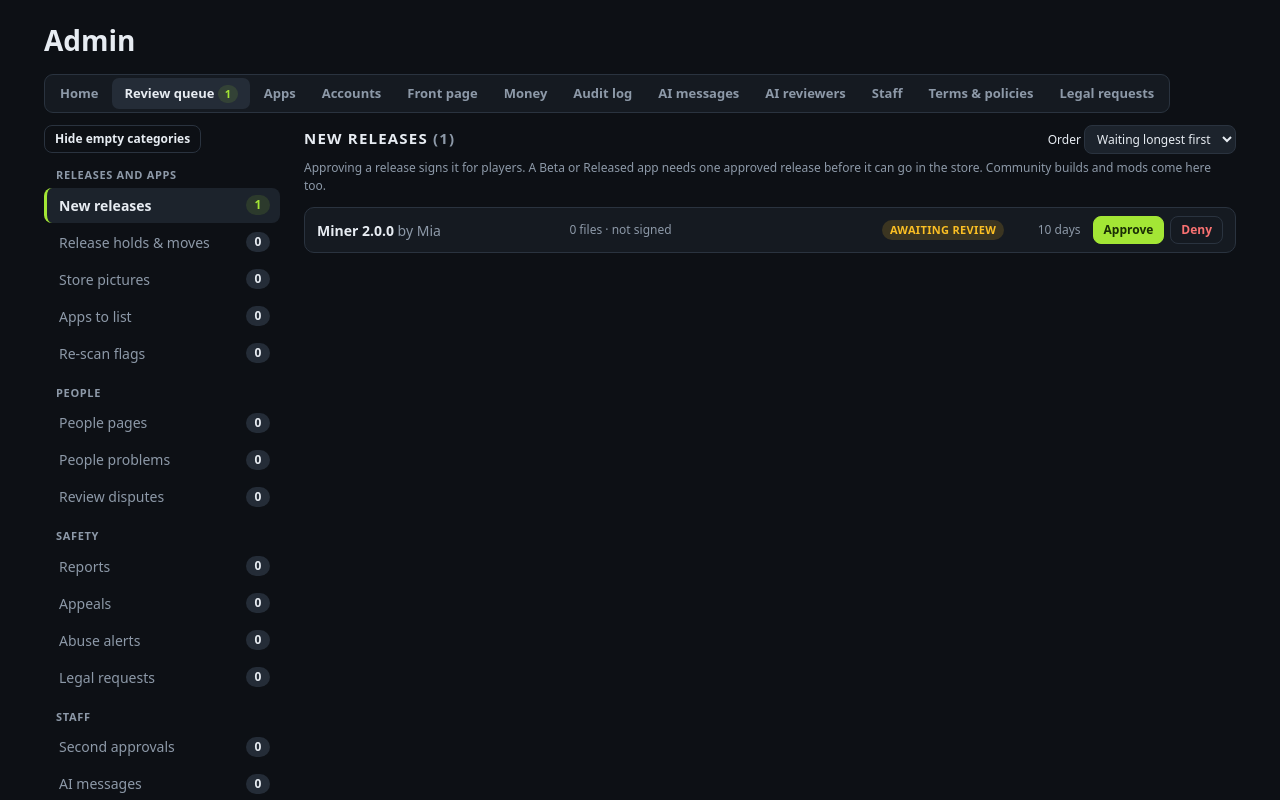
it: the admin panel › denies only after Are you sure?, with the reason the maker reads; cancelling keeps it
Click the button with aria-label "Deny Miner 2.0.0" at point(1197, 230), box [1170, 216, 1223, 244]
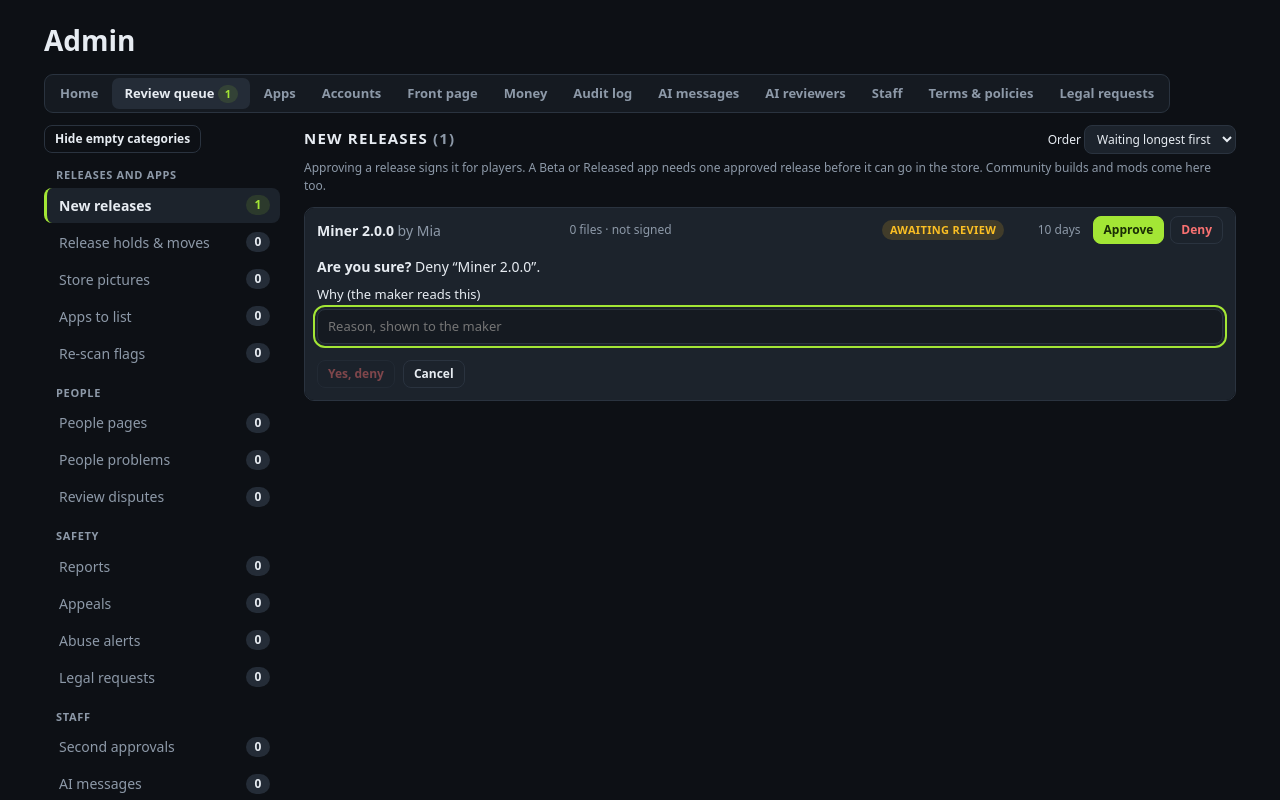
Check: the text "Are you sure?" is shown, box [317, 257, 411, 276]
Check: the button "Yes, deny" is disabled, box [317, 360, 395, 388]
Click the button "Cancel" at point(434, 374), box [403, 360, 465, 388]
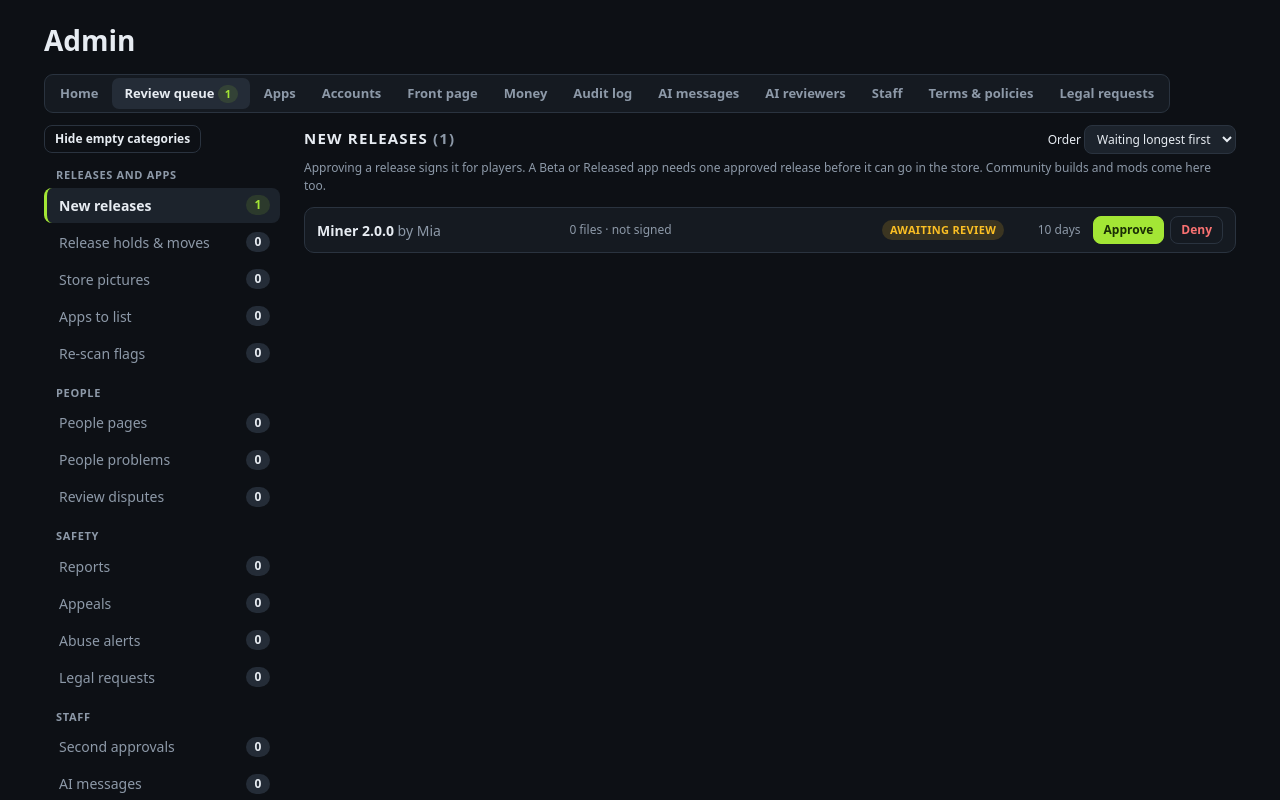
Check: the text "Are you sure?" is gone
Click the button with aria-label "Deny Miner 2.0.0" at point(1197, 230), box [1170, 216, 1223, 244]
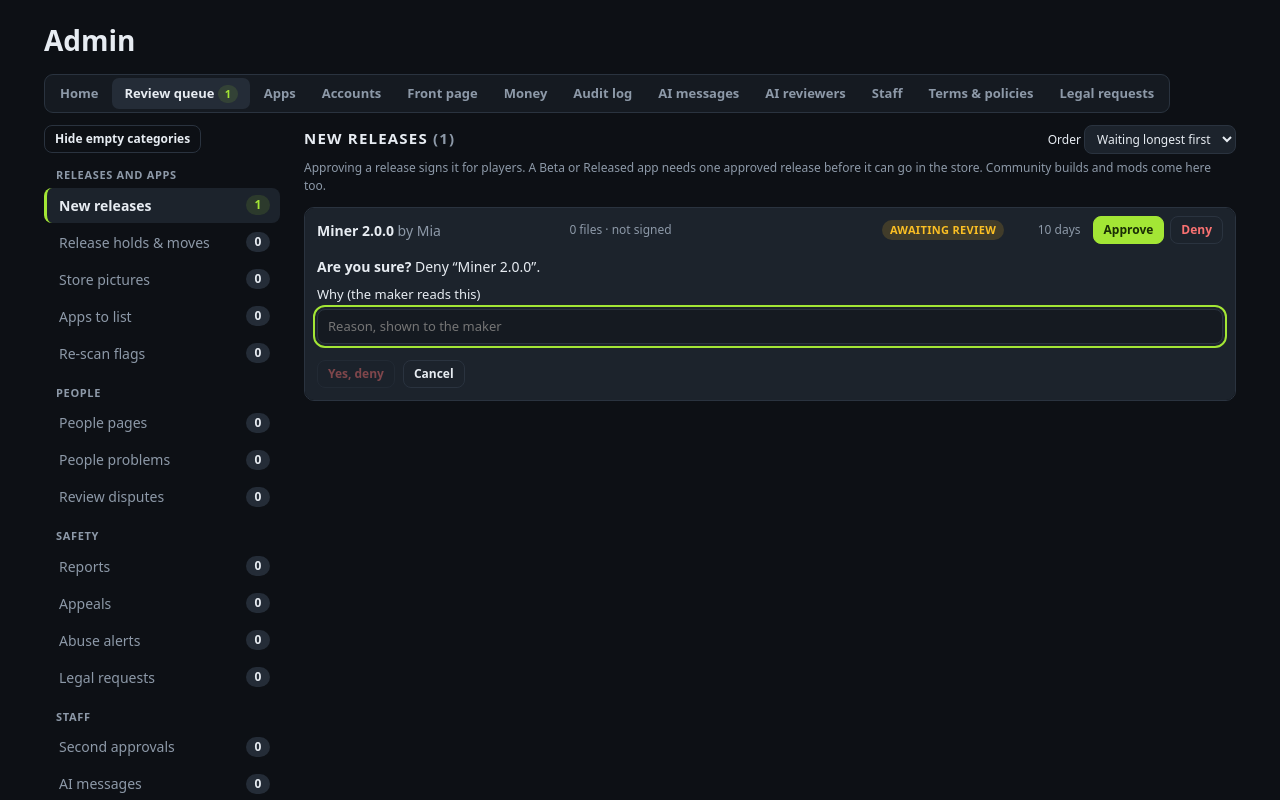
Type "No program in the zip." into the field labelled "Why (the maker reads this)" at point(770, 326), box [317, 309, 1223, 344]
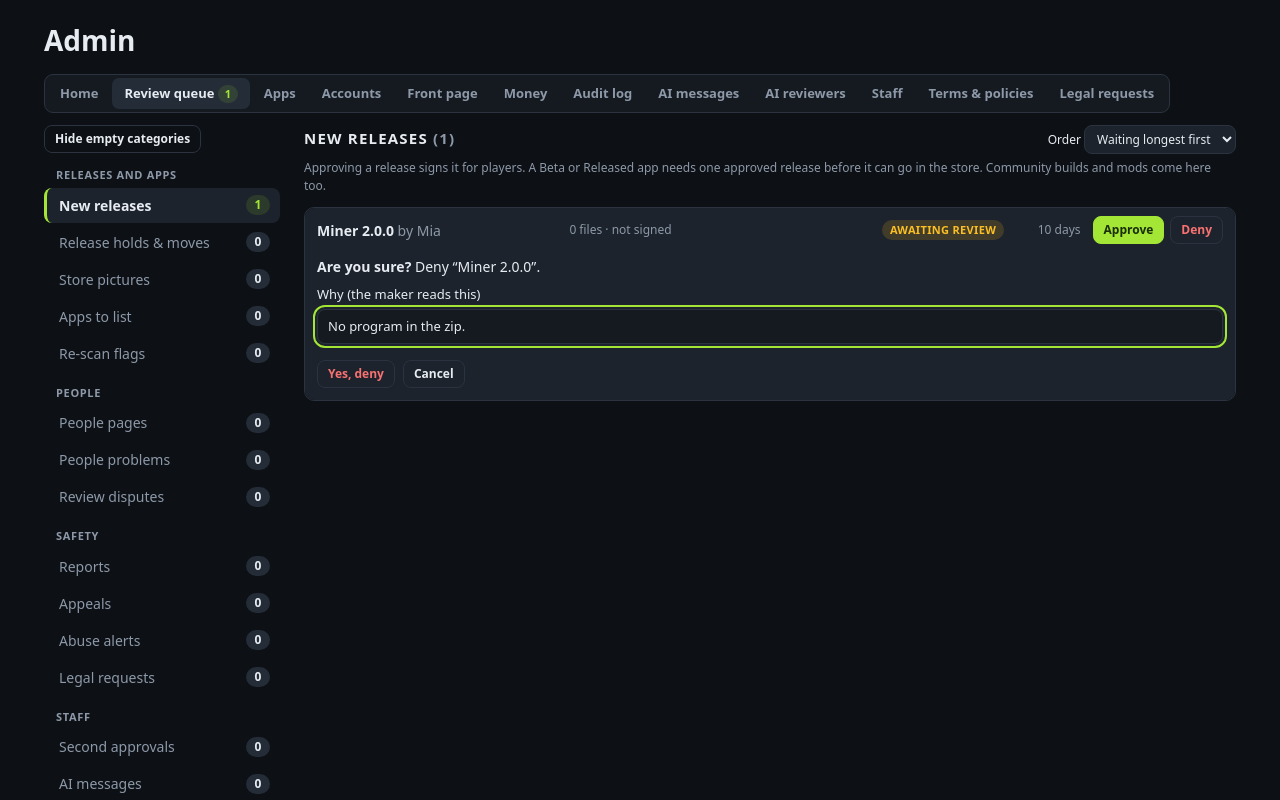
Click the button "Yes, deny" at point(356, 374), box [317, 360, 395, 388]
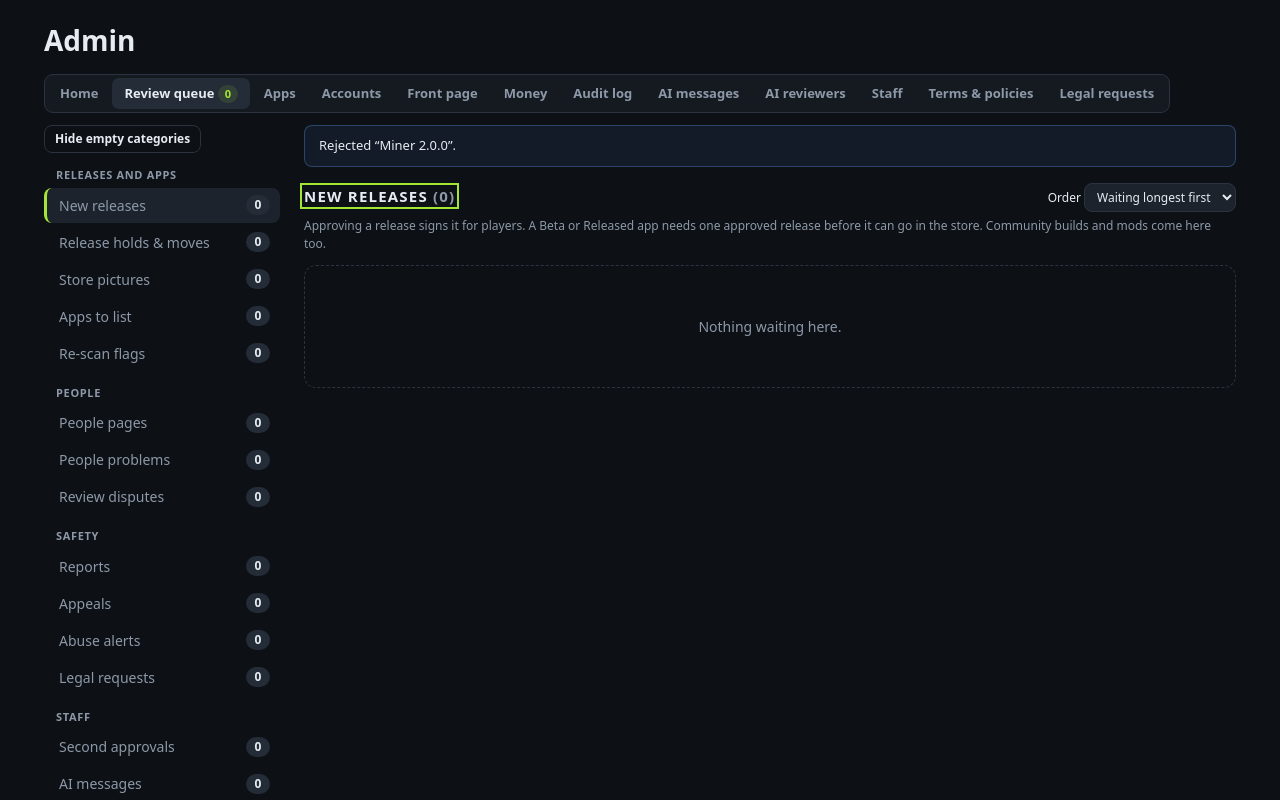
Check: the text "Rejected “Miner 2.0.0”." is shown, box [304, 125, 1236, 167]
Check: the text "Nothing waiting here." is shown, box [304, 265, 1236, 388]
